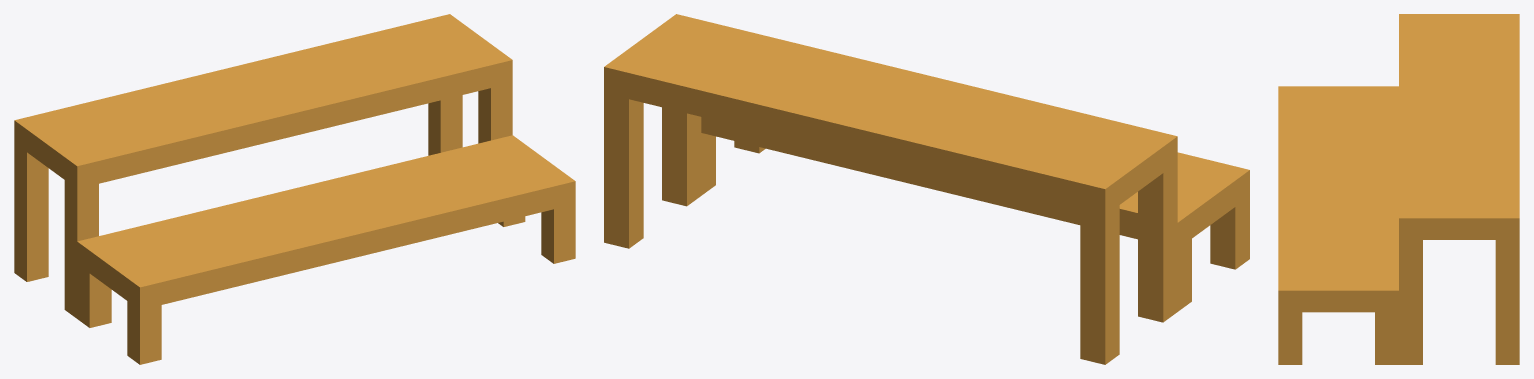
The model's file is music-stage-platform-stairs-medium.glb.
3 renders of one model, left to right at view 1: azimuth 30°, elevation 25°; view 2: azimuth 150°, elevation 25°; view 3: azimuth 270°, elevation 25°, orthographic. The views are drawn at different scales.
Visible parts, largest first — view 1: stage-platform-stairs-medium; view 2: stage-platform-stairs-medium; view 3: stage-platform-stairs-medium.
Boxes of the visible parts, <box> form: stage-platform-stairs-medium: <box>14,14,575,364</box>; stage-platform-stairs-medium: <box>604,14,1249,364</box>; stage-platform-stairs-medium: <box>1278,14,1519,364</box>.
Bounding box in the file's own units: 2 × 0.67 × 0.9994.
